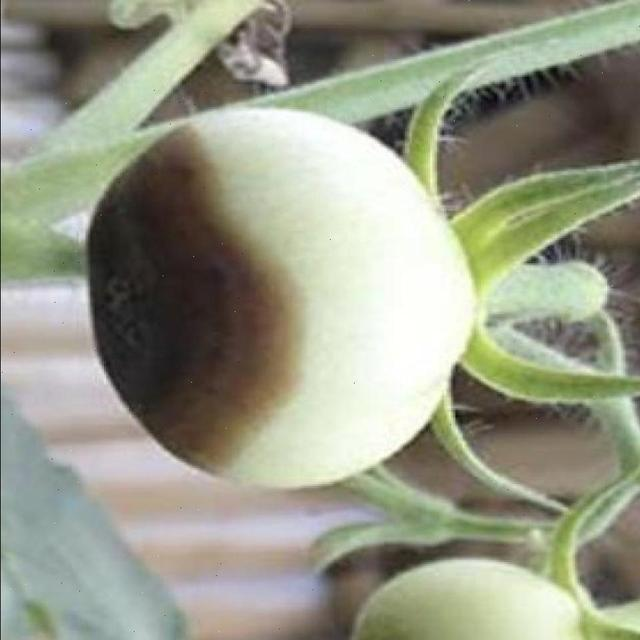Blossom End Rot Fruit: (60, 77, 210, 323)
